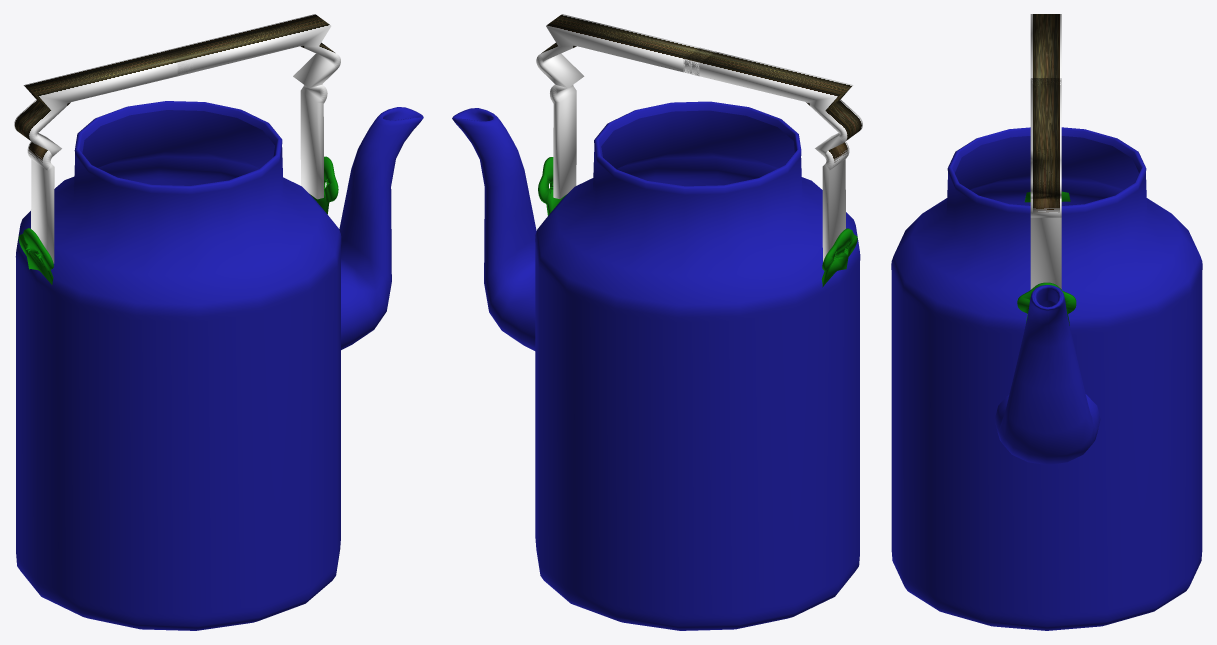
Rendered from TeaPot.obj.
3 renders of one model, left to right at view 1: azimuth 30°, elevation 25°; view 2: azimuth 150°, elevation 25°; view 3: azimuth 270°, elevation 25°, orthographic. The views are drawn at different scales.
Parts seen in each view (by area): view 1: Teapot01, Teapot02, Line04, Line03, Teapot03, Line02, Line01; view 2: Teapot01, Teapot03, Line04, Line03, Teapot02, Line02, Line01; view 3: Teapot01, Line04, Teapot03, Teapot02, Line03, Line01.
Boxes of the visible parts, box(x1,y1,x2,y2) form: Teapot01: box(15, 101, 341, 630); Teapot02: box(341, 107, 423, 349); Line04: box(162, 14, 340, 199); Line03: box(14, 48, 192, 263); Teapot03: box(339, 107, 422, 264); Line02: box(18, 228, 53, 284); Line01: box(310, 156, 338, 214); Teapot01: box(535, 101, 860, 630); Teapot03: box(452, 108, 535, 350); Line04: box(536, 14, 714, 198); Line03: box(683, 47, 862, 261); Teapot02: box(453, 108, 536, 265); Line02: box(821, 228, 857, 287); Line01: box(538, 157, 566, 215); Teapot01: box(891, 127, 1202, 630); Line04: box(1030, 78, 1061, 289); Teapot03: box(1031, 285, 1100, 464); Teapot02: box(994, 285, 1068, 464); Line03: box(1030, 14, 1061, 85); Line01: box(1017, 282, 1076, 325).
Size of the model in its own units: 80.24 by 99.34 by 56.83.
